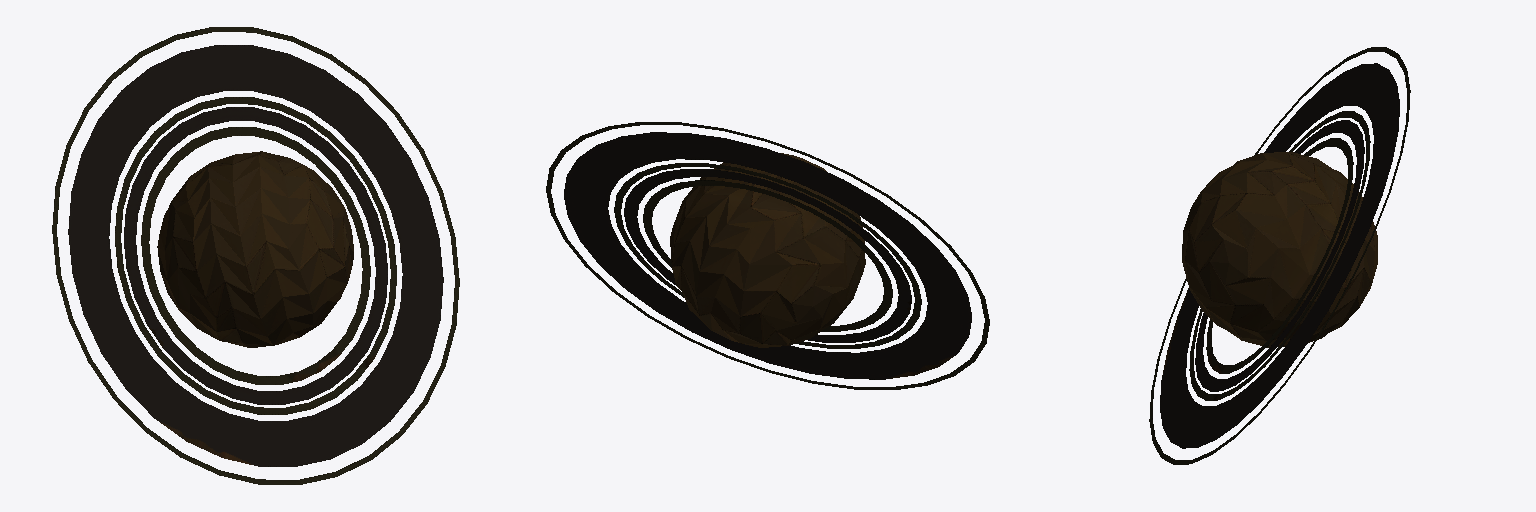
The picture shows the model from 3 angles: view 1: azimuth 30°, elevation 25°; view 2: azimuth 150°, elevation 25°; view 3: azimuth 270°, elevation 25°; orthographic projection.
Visible parts, largest first — view 1: SaturnsRings, Saturn; view 2: SaturnsRings, Saturn; view 3: Saturn, SaturnsRings.
Part boxes in pixels (x1,y1,x2,y2): SaturnsRings: (52, 27, 459, 484); Saturn: (157, 151, 353, 347); SaturnsRings: (546, 122, 989, 389); Saturn: (670, 153, 865, 347); Saturn: (1182, 152, 1377, 347); SaturnsRings: (1149, 47, 1410, 464).
Size of the model in its own units: 6.87 by 5.8 by 3.84.
Materials: 4 (1 with a texture image).